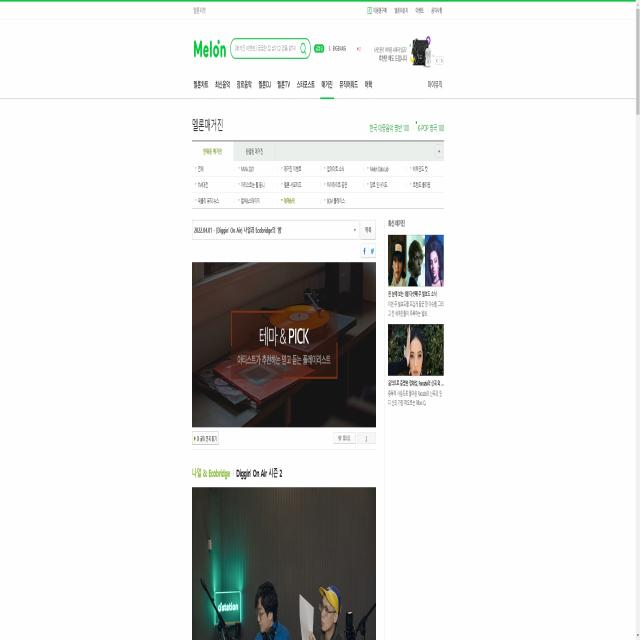menu-panel: (192, 135, 446, 212)
side-panel: (384, 215, 448, 470)
tab-bar: (190, 74, 374, 102), (229, 33, 311, 66)
